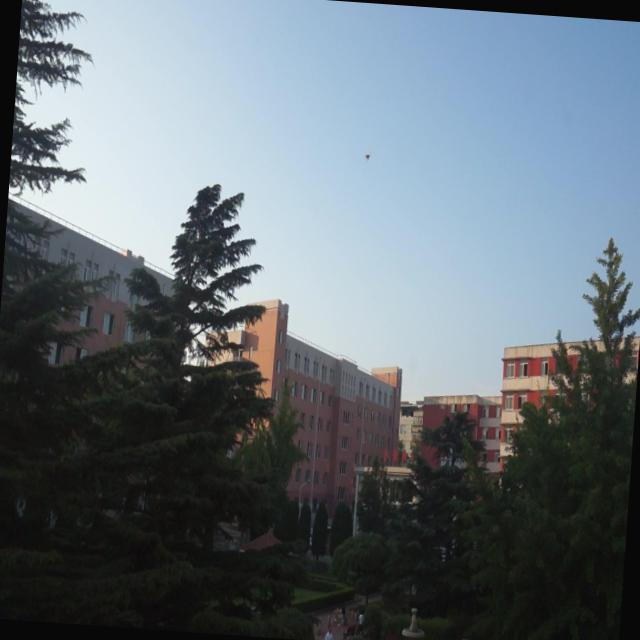drone: (363, 147, 371, 165)
